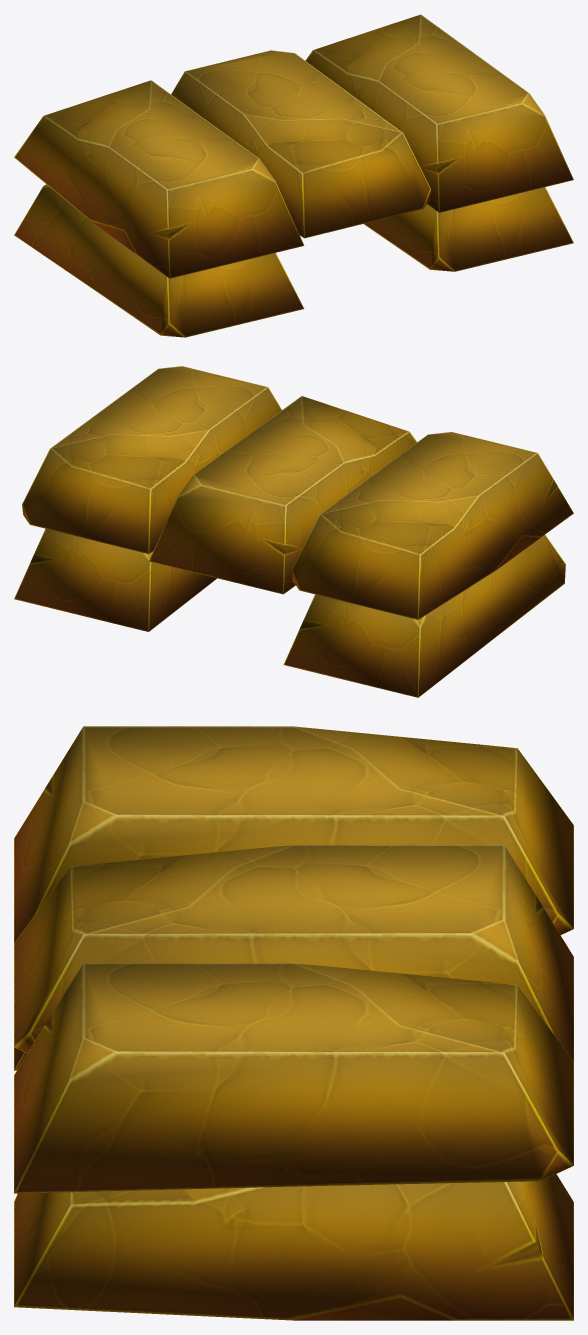
File: Gold-12.fbx
The picture shows the model from 3 angles, top to bottom: view 1: azimuth 30°, elevation 25°; view 2: azimuth 150°, elevation 25°; view 3: azimuth 270°, elevation 25°; orthographic projection. The views are drawn at different scales.
Visible parts, largest first — view 1: Gold-12; view 2: Gold-12; view 3: Gold-12.
Part boxes in pixels (x1,y1,x2,y2): Gold-12: [14, 14, 573, 337]; Gold-12: [14, 366, 573, 697]; Gold-12: [14, 726, 573, 1320].
Bounding box in the file's own units: 0.225 × 0.075 × 0.15.
1 material, 1 textured.
